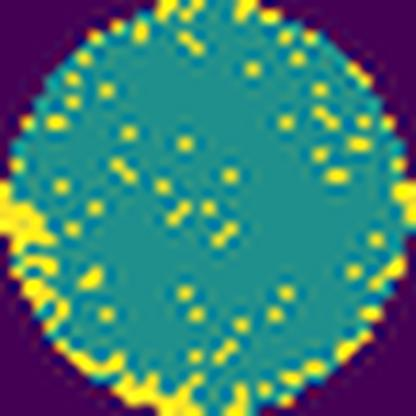Edge-Loc: (0, 185, 219, 415), (388, 178, 415, 235), (220, 379, 255, 416)
